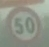limite 50: (1, 1, 49, 47)
